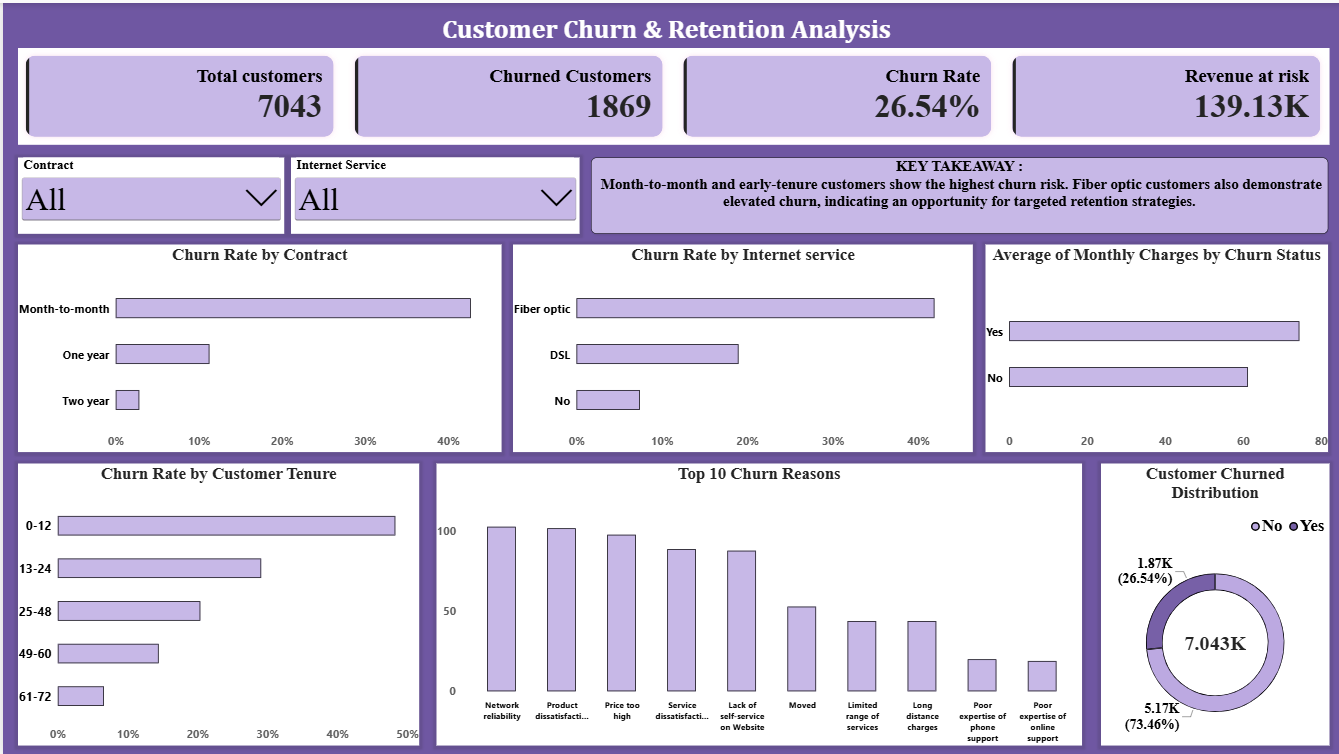

Layout of this report page (visuals, bound fields, positions):
{"tool":"powerbi","page":{"name":"Churn Overview ","canvas":[1920,1080],"ordinal":0},"visuals":[{"type":"cardVisual","fields":{"Data":["Telco_Churn.Total customers","Telco_Churn.Churned Customers","Telco_Churn.Churn Rate","Telco_Churn.Revenue at risk"]},"box":[20.4,63.6,1878.4,138.5],"z":0},{"type":"clusteredBarChart","title":"Churn Rate by Contract ","fields":{"Category":["Telco_Churn.Contract"],"Y":["Telco_Churn.Churn Rate"]},"box":[20.4,345.2,692.7,297.5],"z":1000},{"type":"clusteredBarChart","title":"Churn Rate by Internet service","fields":{"Category":["Telco_Churn.Internet Service"],"Y":["Telco_Churn.Churn Rate"]},"box":[731.4,345.2,658.7,297.5],"z":2000},{"type":"clusteredBarChart","title":"Churn Rate by Customer  Tenure","fields":{"Y":["Telco_Churn.Churn Rate"],"Category":["Telco_Churn.Tenure Group"]},"box":[20.4,658.7,574.6,404.3],"z":3000},{"type":"columnChart","title":"Top 10 Churn Reasons","fields":{"Category":["Telco_Churn.Churn Reason"],"Y":["CountNonNull(Telco_Churn.Churn Reason)"]},"box":[620.1,658.7,924.4,404.3],"z":4000},{"type":"slicer","fields":{"Values":["Telco_Churn.Contract"]},"box":[20.4,220.3,381.6,109],"z":5000},{"type":"slicer","fields":{"Values":["Telco_Churn.Internet Service"]},"box":[413.4,220.3,413.4,109],"z":6000},{"type":"textbox","box":[20.4,15.9,1857.9,88.6],"z":7000},{"type":"donutChart","title":"Customer Churned Distribution ","fields":{"Category":["Telco_Churn.Churn Label"],"Y":["CountNonNull(Telco_Churn.CustomerID)"]},"box":[1571.7,658.7,327.1,404.3],"z":8000},{"type":"clusteredBarChart","title":"Average of Monthly Charges by Churn Status ","fields":{"Category":["Telco_Churn.Churn Label"],"Y":["Avg(Telco_Churn.Monthly Charges)"]},"box":[1408.2,345.2,490.6,297.5],"z":9000},{"type":"textbox","box":[842.7,220.3,1056.2,109],"z":10000}]}

Visuals, with their boxes in screenshot pixels (x1, y1, x2, y2), scaled from the page's 1920x1080 canvas onto the 1339x754 screenshot:
cardVisual - Telco_Churn.Total customers x Telco_Churn.Churned Customers: crop(14, 44, 1324, 141)
"Churn Rate by Contract " clusteredBarChart: crop(14, 241, 497, 449)
"Churn Rate by Internet service" clusteredBarChart: crop(510, 241, 969, 449)
"Churn Rate by Customer  Tenure" clusteredBarChart: crop(14, 460, 415, 742)
"Top 10 Churn Reasons" columnChart: crop(432, 460, 1077, 742)
slicer - Telco_Churn.Contract: crop(14, 154, 280, 230)
slicer - Telco_Churn.Internet Service: crop(288, 154, 577, 230)
textbox: crop(14, 11, 1310, 73)
"Customer Churned Distribution " donutChart: crop(1096, 460, 1324, 742)
"Average of Monthly Charges by Churn Status " clusteredBarChart: crop(982, 241, 1324, 449)
textbox: crop(588, 154, 1324, 230)
